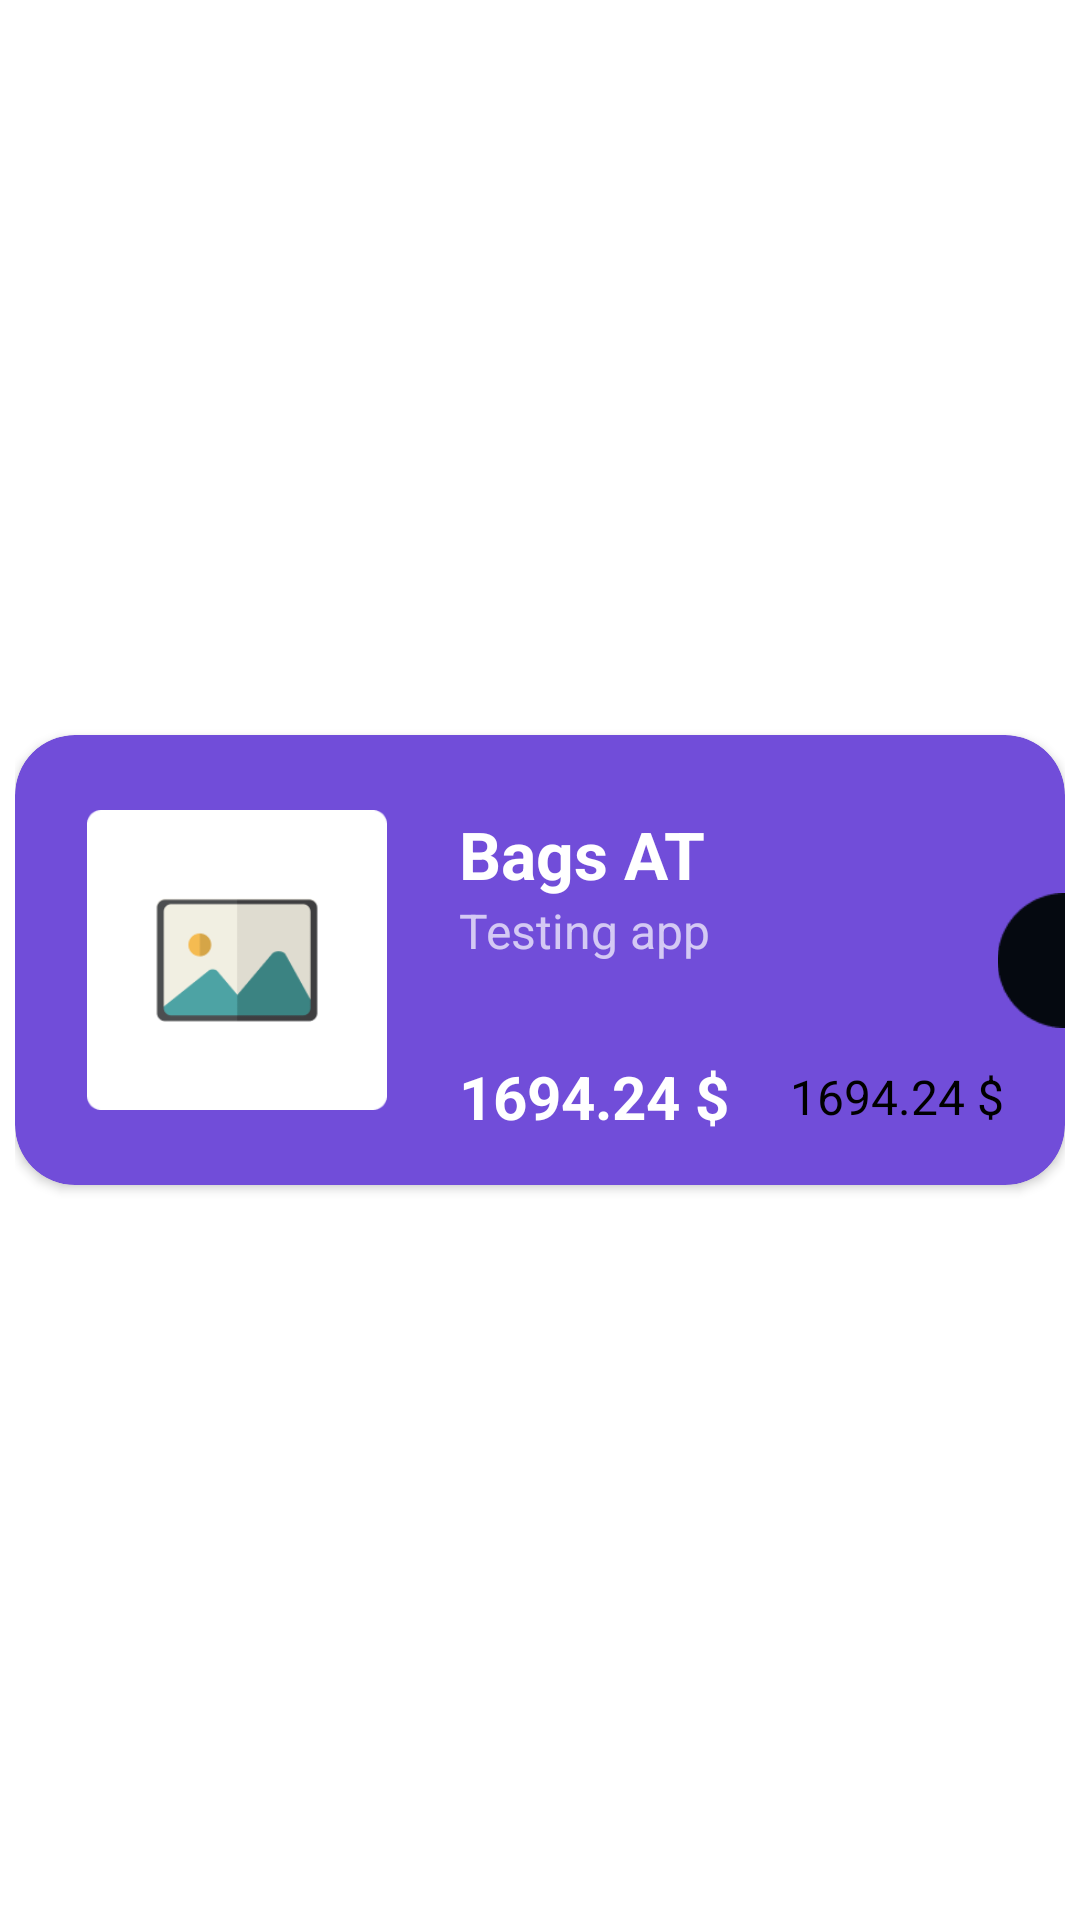

Icons on this 1080px×1920px Android screen, each with the point to tap as point (x, y):
imageplaceholder: point (237, 960)
